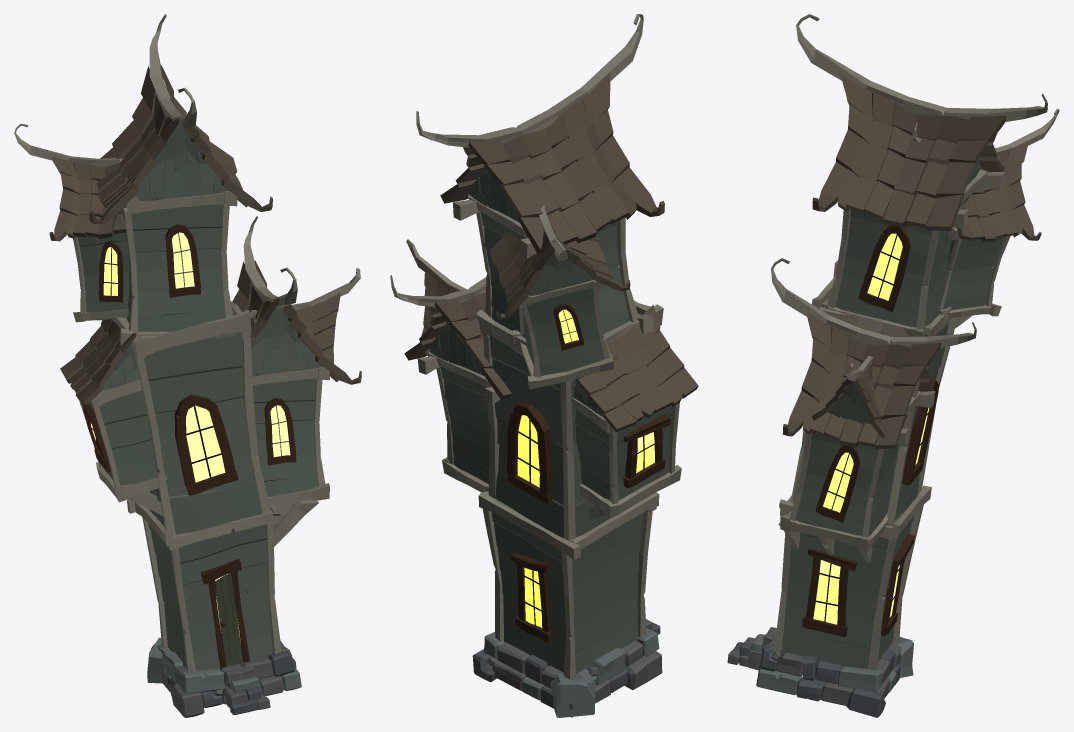
The model's file is Manor - Halloween.fbx.
3 renders of one model, left to right at view 1: azimuth 30°, elevation 25°; view 2: azimuth 150°, elevation 25°; view 3: azimuth 270°, elevation 25°, orthographic. The views are drawn at different scales.
Parts seen in each view (by area): view 1: House Complete; view 2: House Complete; view 3: House Complete.
Boxes of the visible parts, left/top/right/bottom form: House Complete: left=14, top=14, right=361, bottom=717; House Complete: left=390, top=14, right=698, bottom=717; House Complete: left=727, top=14, right=1059, bottom=717.
Size of the model in its own units: 679 by 1483 by 686.
